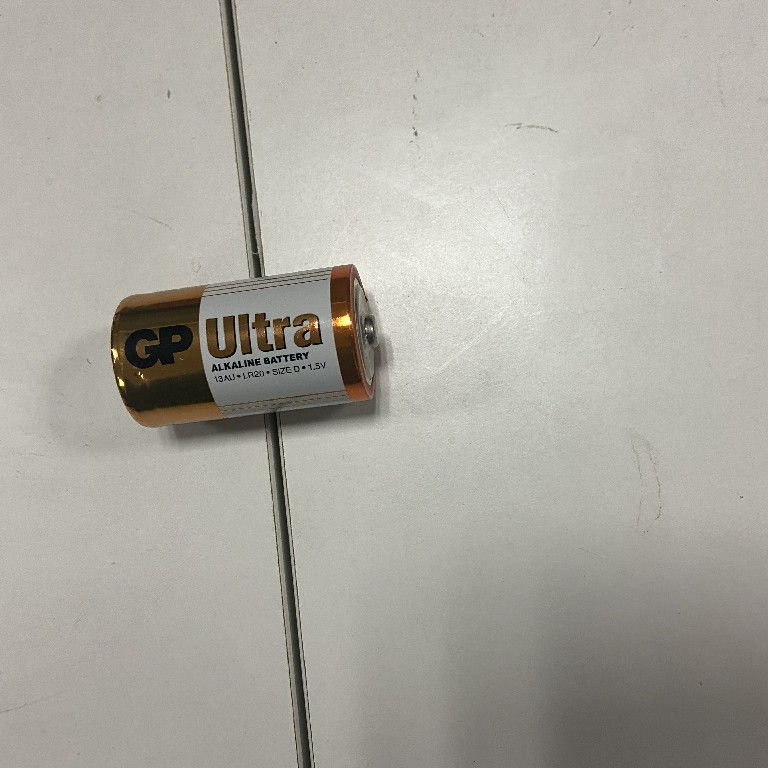charge: (107, 262, 387, 434)
